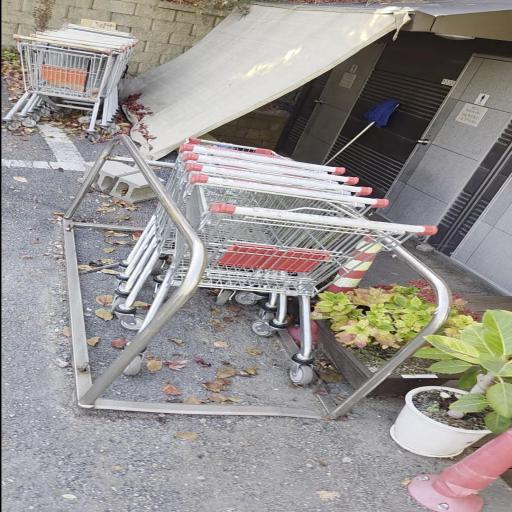combined_cart: (60, 130, 456, 420)
